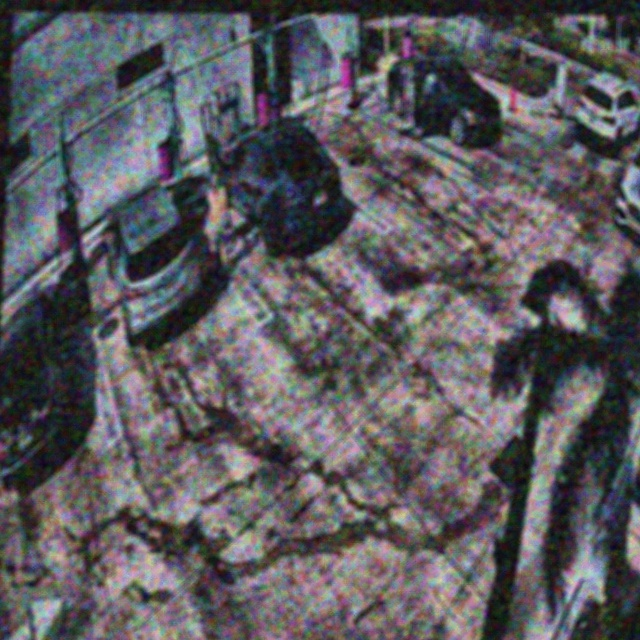Car: (212, 110, 347, 262), (102, 172, 209, 345), (383, 52, 504, 156)
